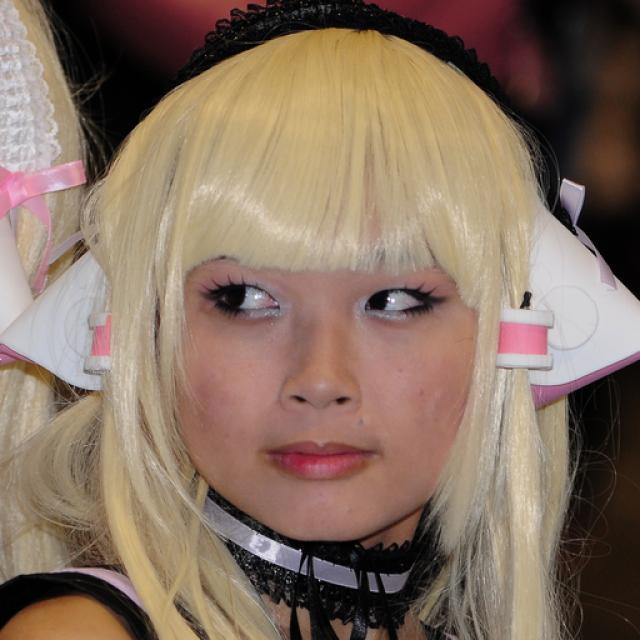neutral: (165, 133, 483, 542)
